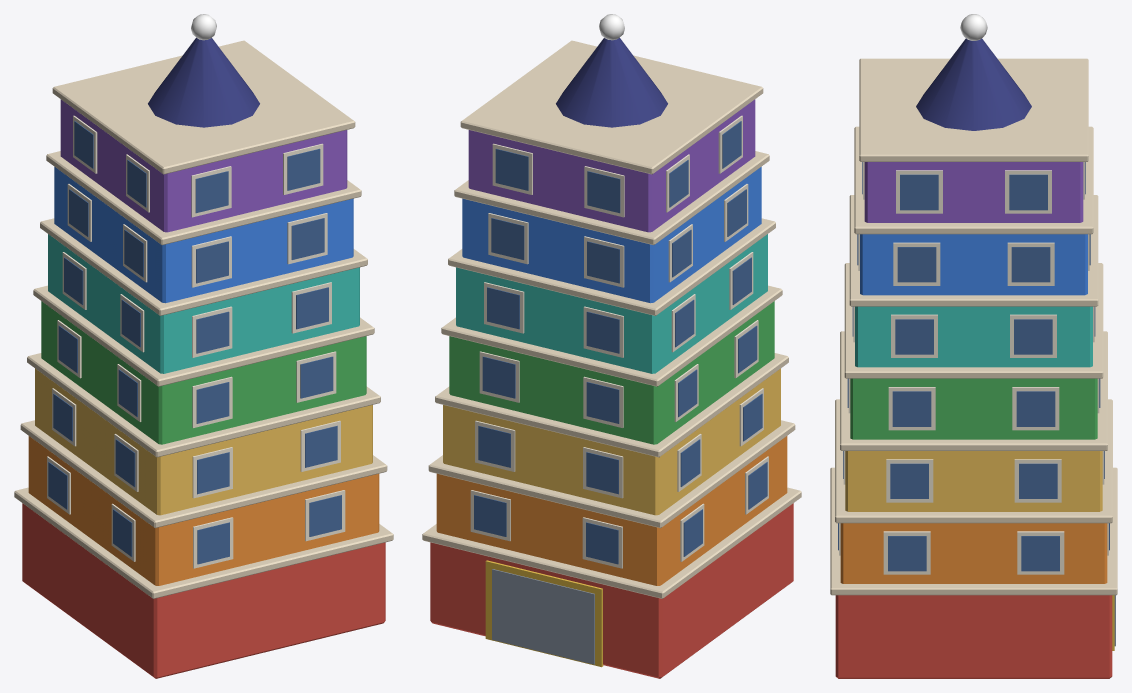
Rendered from bld_garage_lesson07.glb.
3 views of the same model, side by side, from view 1: azimuth 30°, elevation 25°; view 2: azimuth 150°, elevation 25°; view 3: azimuth 270°, elevation 25° (orthographic). The views are drawn at different scales.
Parts seen in each view (by area): view 1: bld_garage_lesson07; view 2: bld_garage_lesson07; view 3: bld_garage_lesson07.
Boxes of the visible parts, x1,y1,x2,y2 form: bld_garage_lesson07: [14, 14, 393, 678]; bld_garage_lesson07: [422, 14, 801, 678]; bld_garage_lesson07: [830, 14, 1117, 678].
Size of the model in its own units: 10.4 by 24.2 by 10.4.
